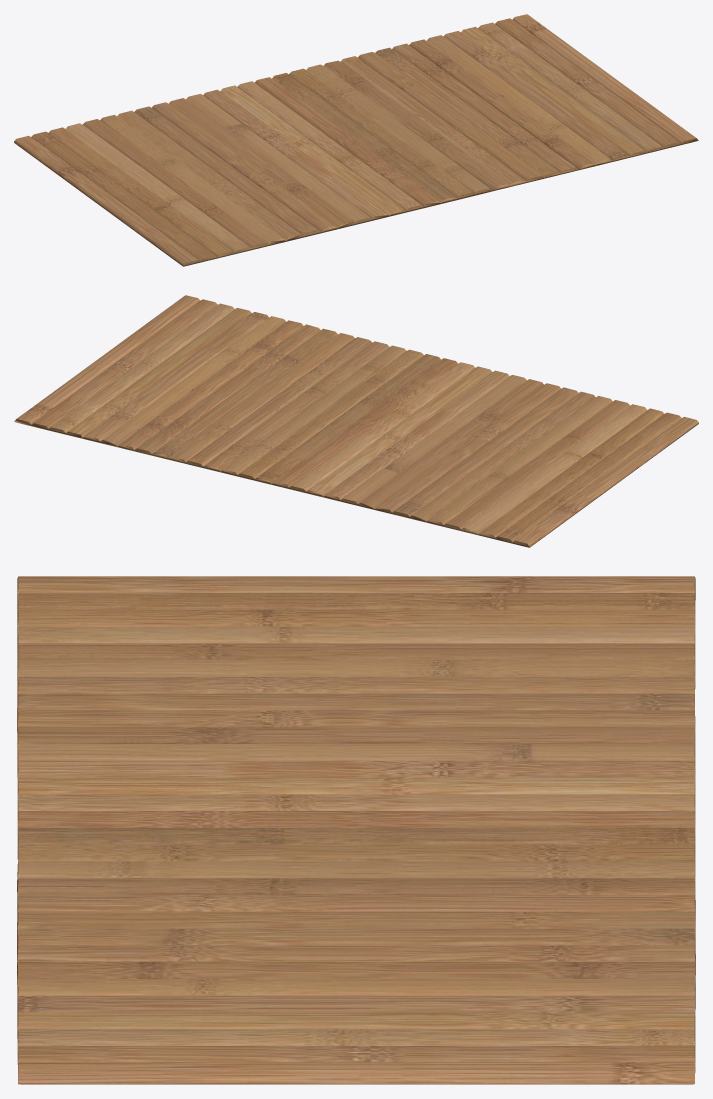
3 renders of one model, top to bottom at view 1: azimuth 30°, elevation 25°; view 2: azimuth 150°, elevation 25°; view 3: azimuth 270°, elevation 25°, orthographic. The views are drawn at different scales.
Visible parts, largest first — view 1: ProcessedMeshNode; view 2: ProcessedMeshNode; view 3: ProcessedMeshNode.
Boxes of the visible parts, x1,y1,x2,y2 form: ProcessedMeshNode: (14,14,698,266); ProcessedMeshNode: (14,295,698,547); ProcessedMeshNode: (17,576,695,1084).
Size of the model in its own units: 0.6506 by 0.00599 by 0.3707.
1 material, 1 textured.
